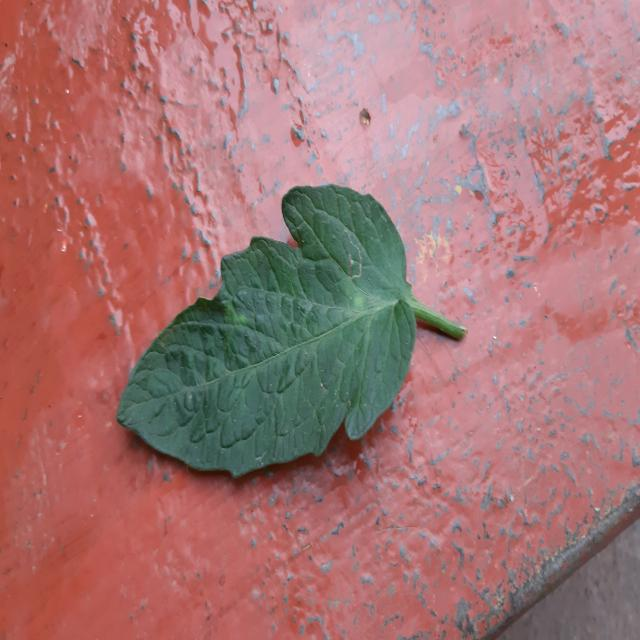tomato: (118, 184, 455, 478)
